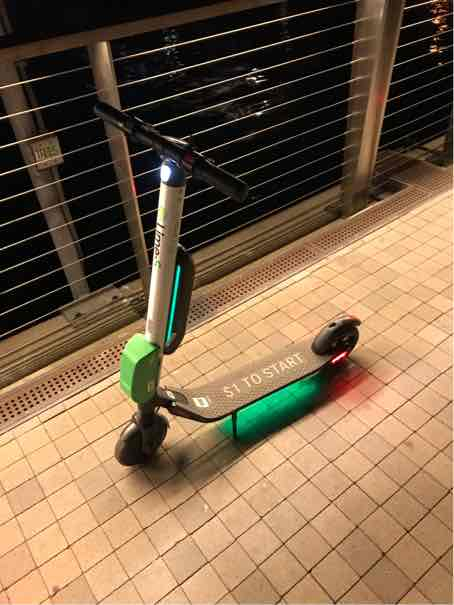scooter: (93, 111, 366, 474)
